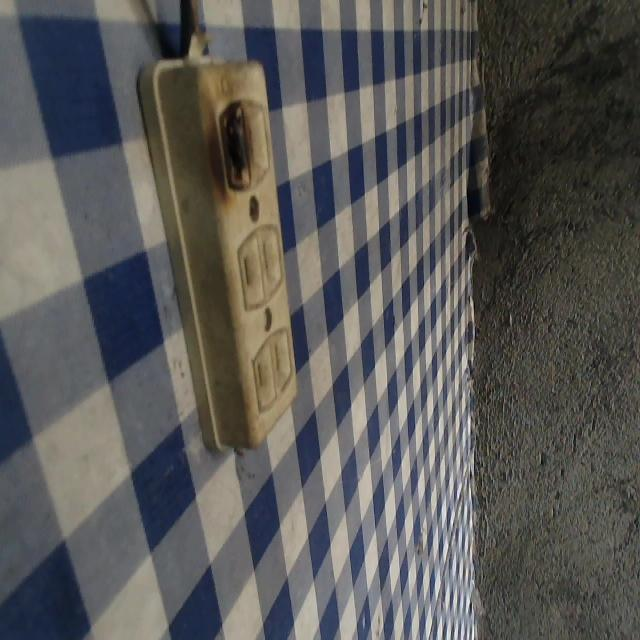-: (200, 88, 256, 199)
